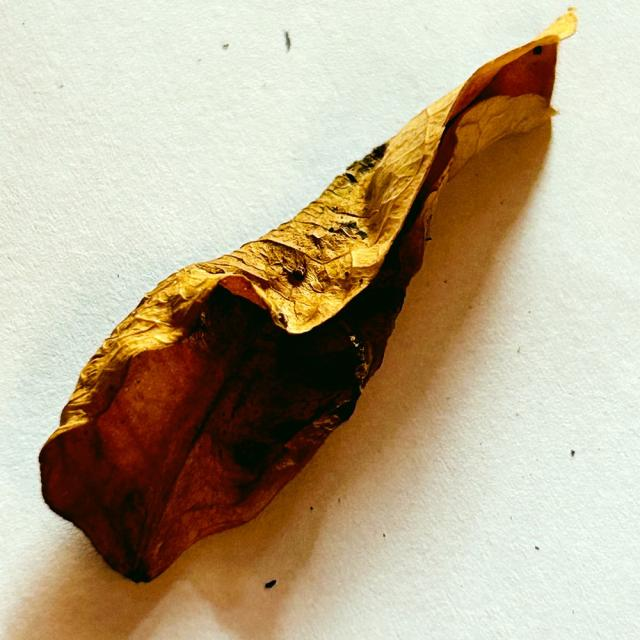DryLeaf_Lemon: (39, 11, 577, 581)
